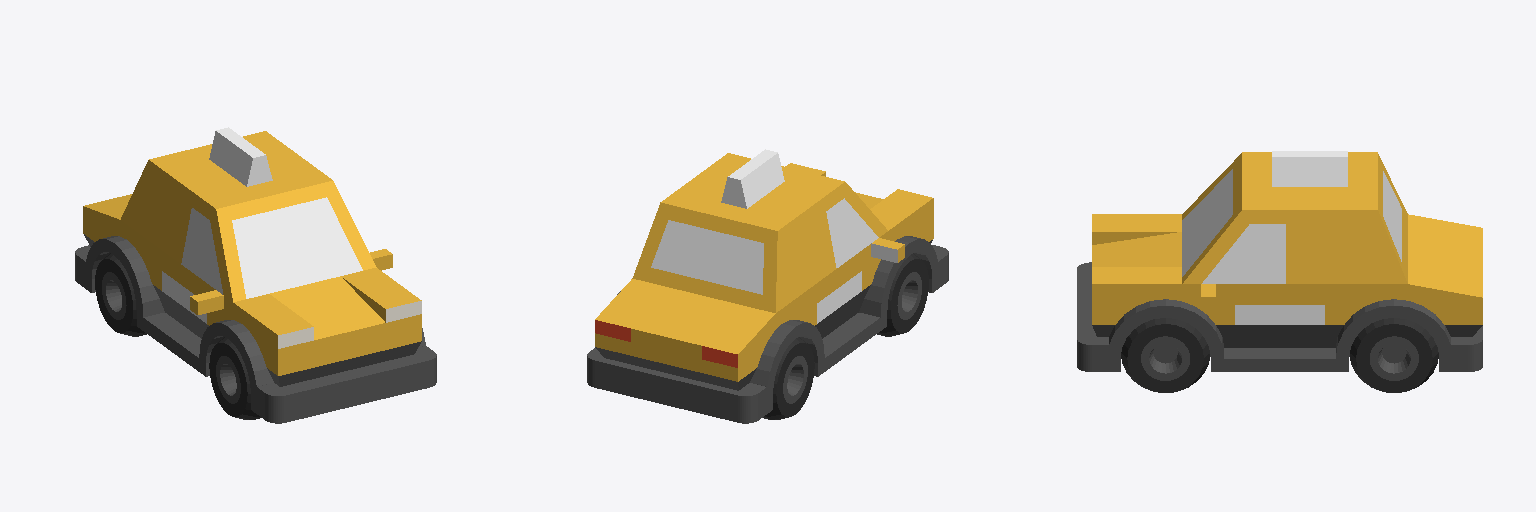
File: taxi2.obj
3 views of the same model, side by side, from view 1: azimuth 30°, elevation 25°; view 2: azimuth 150°, elevation 25°; view 3: azimuth 270°, elevation 25° (orthographic).
Visible parts, largest first — view 1: taxi; view 2: taxi; view 3: taxi.
Boxes of the visible parts, x1=… form: taxi: x1=75, y1=127, x2=436, y2=423; taxi: x1=587, y1=149, x2=948, y2=423; taxi: x1=1077, y1=151, x2=1482, y2=392.
Size of the model in its own units: 1.12 by 1.12 by 2.02.